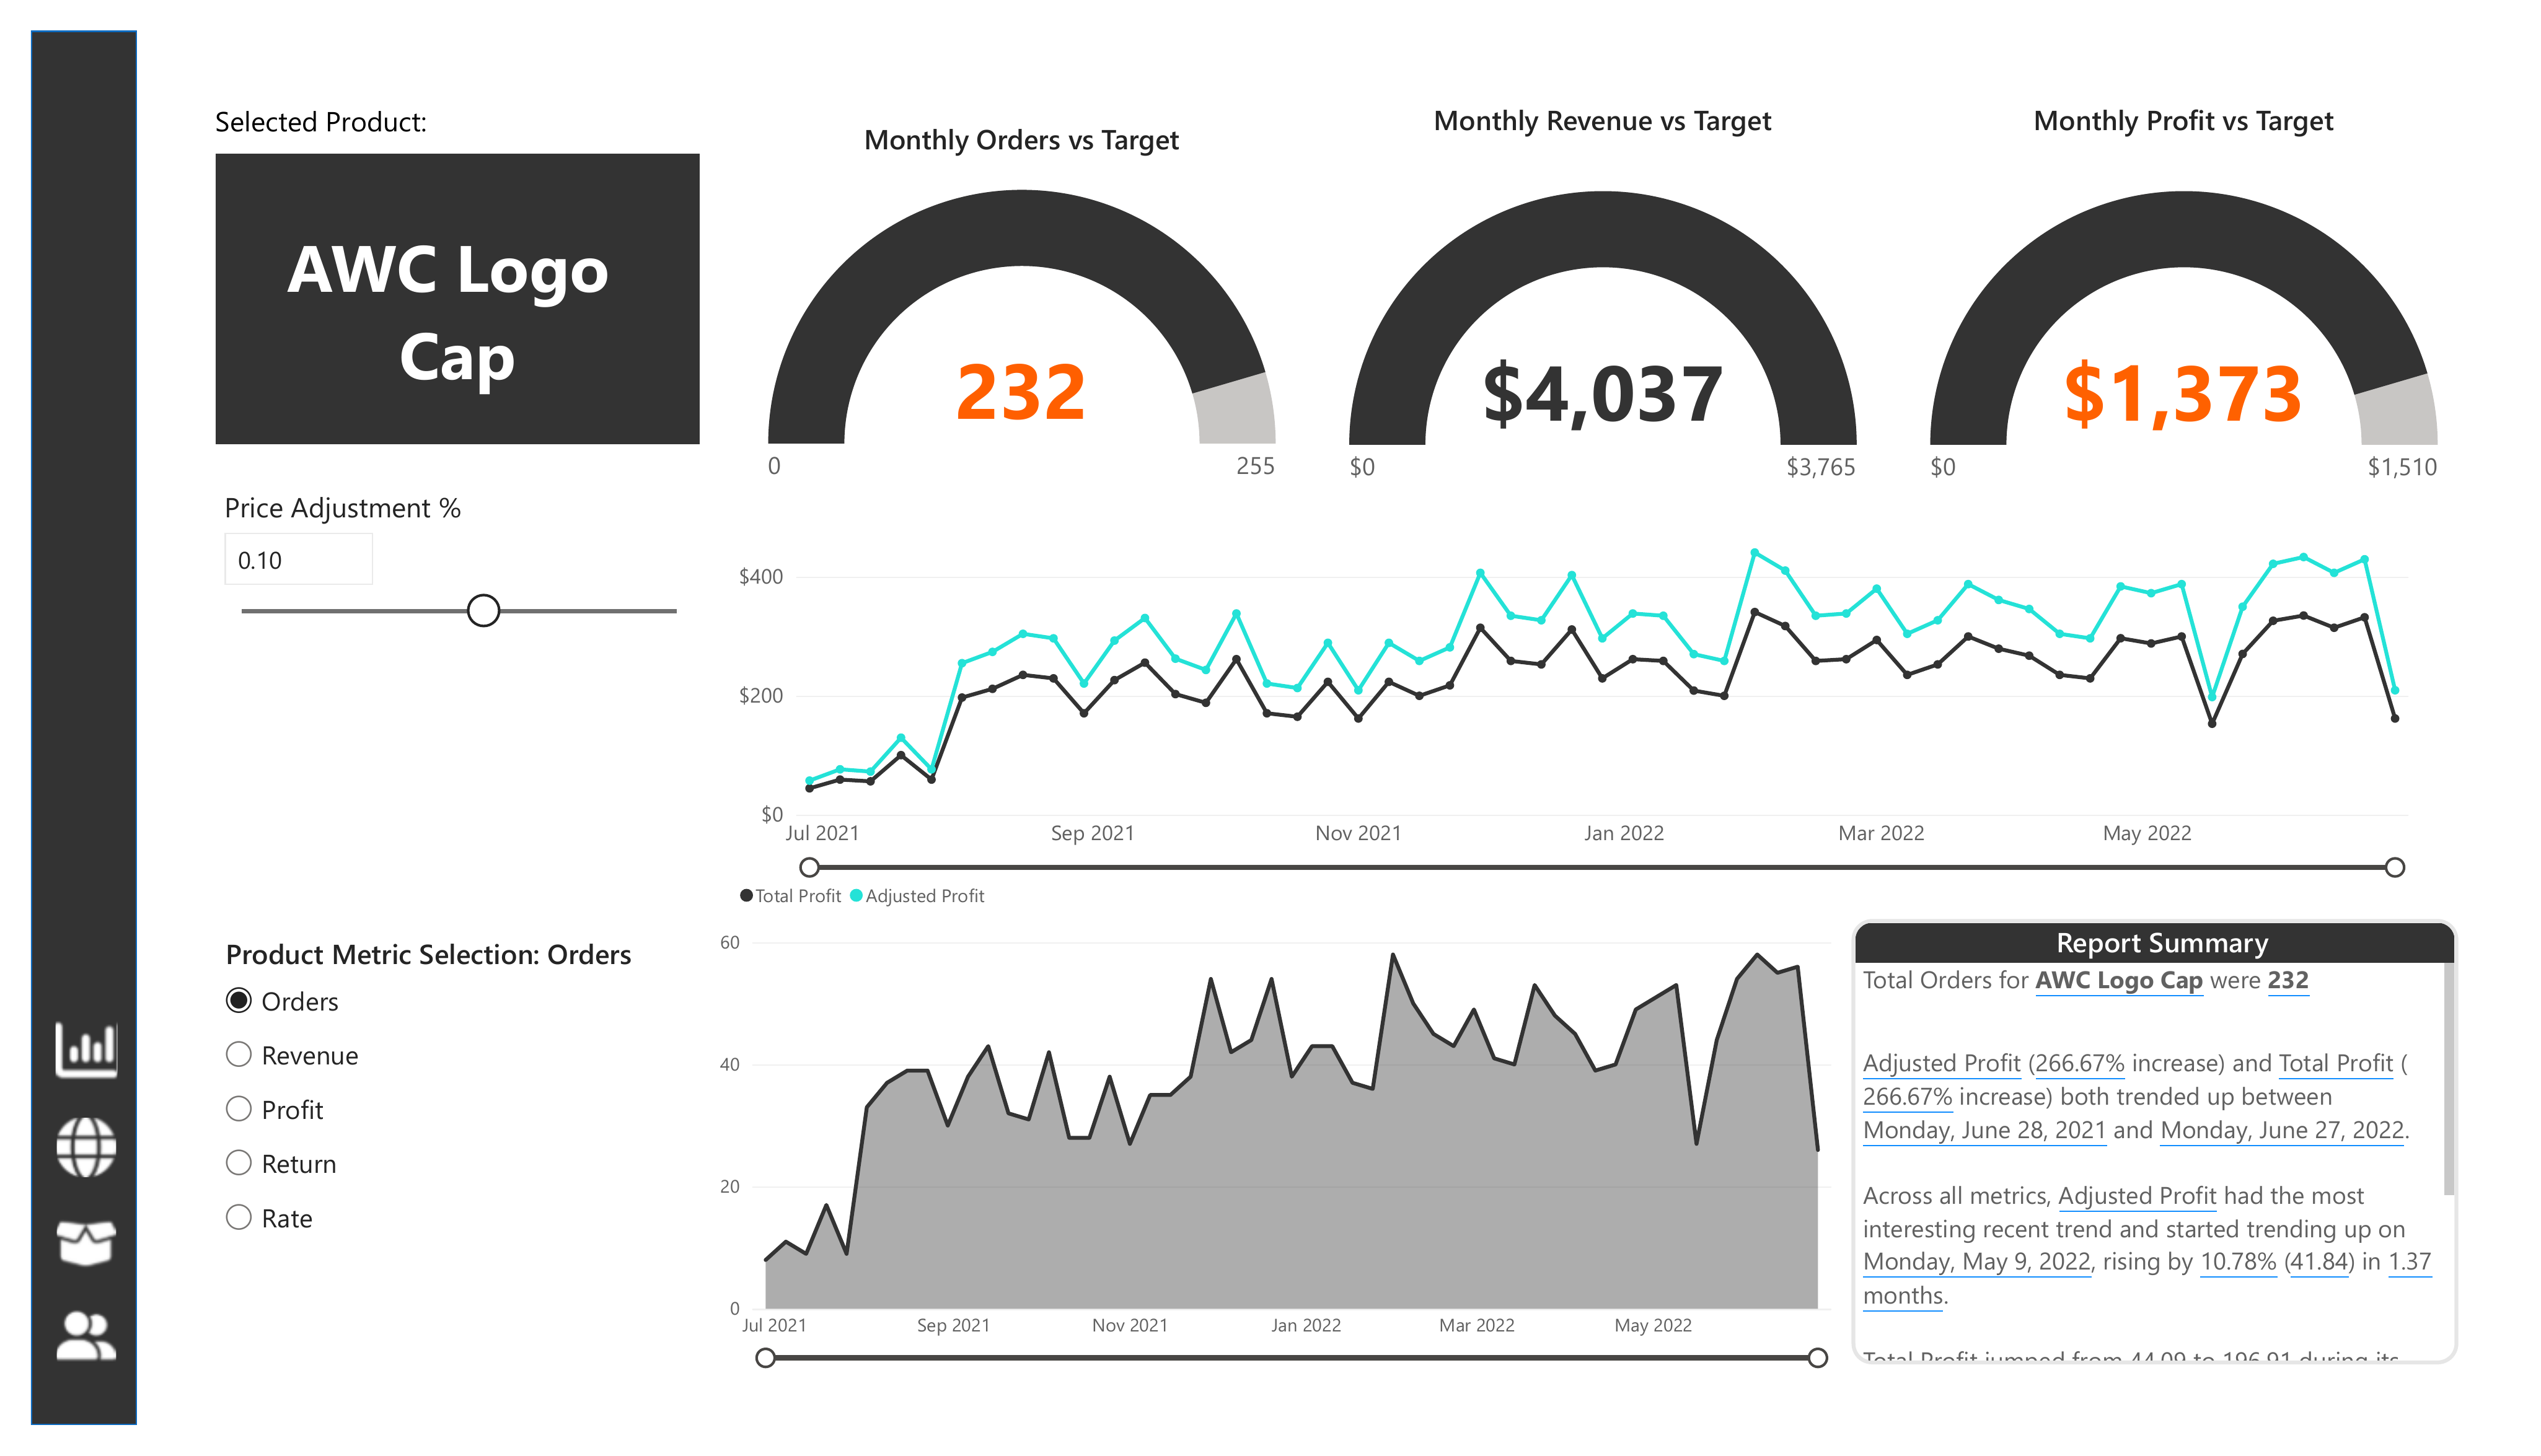

Layout of this report page (visuals, bound fields, positions):
{"tool":"powerbi","page":{"name":"Prouduct Detail","canvas":[1920,1080],"ordinal":2},"visuals":[{"type":"shape","box":[0,0,81.8,1079.5],"z":0},{"type":"actionButton","box":[2,752.2,81.1,75],"z":0,"group":"g1"},{"type":"gauge","title":"Monthly Orders vs Target","fields":{"MaxValue":["Measure Table.Order Target"],"Y":["Measure Table.Total Orders"]},"box":[555,55,425,337.5],"z":1000},{"type":"actionButton","box":[2,827.2,81.1,75],"z":1000,"group":"g1"},{"type":"gauge","title":"Monthly Revenue vs Target","fields":{"MaxValue":["Measure Table.Target Revenue"],"Y":["Measure Table.Total Revenue"]},"box":[1005,40,425,370],"z":2000},{"type":"actionButton","box":[2,902.2,81.1,75],"z":2000,"group":"g1"},{"type":"gauge","title":"Monthly Profit vs Target","fields":{"MaxValue":["Measure Table.Profit Target"],"Y":["Measure Table.Total Profit"]},"box":[1455,40,425,370],"z":3000},{"type":"actionButton","box":[2,973.2,81.1,75],"z":3000,"group":"g1"},{"type":"lineChart","title":"Profit","fields":{"Category":["Calendar Lookup.Year","Calendar Lookup.Start of Month","Calendar Lookup.Start of Week","Calendar Lookup.Date"],"Y":["Measure Table.Total Profit","Measure Table.Adjusted Profit"]},"box":[532,354,1350,346],"z":4000},{"type":"areaChart","fields":{"Category":["Calendar Lookup.Year","Calendar Lookup.Start of Month","Calendar Lookup.Start of Week","Calendar Lookup.Date"],"Y":["Measure Table.Total Orders"]},"box":[517.3,680.8,913.5,369.2],"z":5000},{"type":"card","fields":{"Values":["Min(Product Lookup.ProductName)"]},"box":[142.5,95,375,225],"z":6000},{"type":"textbox","box":[142.5,55,257.5,37.5],"z":7000},{"type":"group","id":"g1","title":"Navigation Buttons","box":[2,752.2,81.1,296],"z":8000},{"type":"slicer","fields":{"Values":["Price Adjustment.Price Adjustment"]},"box":[142,354,376,158],"z":9000},{"type":"slicer","fields":{"Values":["Metric Selection.Metric Selection"]},"box":[142.6,700,374.5,346.8],"z":10000},{"type":"textbox","title":"Report Summary","box":[1410,687.5,470,345],"z":11000}]}

Visuals, with their boxes on the page's 1920x1080 design canvas (x1, y1, x2, y2). These are canvas units, not pixel positions in the 2541x1456 screenshot, which may show the page scaled, cropped or inside an application window:
shape: 0,0,82,1080
actionButton: 2,752,83,827
"Monthly Orders vs Target" gauge: 555,55,980,392
actionButton: 2,827,83,902
"Monthly Revenue vs Target" gauge: 1005,40,1430,410
actionButton: 2,902,83,977
"Monthly Profit vs Target" gauge: 1455,40,1880,410
actionButton: 2,973,83,1048
"Profit" lineChart: 532,354,1882,700
areaChart - Calendar Lookup.Year x Calendar Lookup.Start of Month: 517,681,1431,1050
card - Min(Product Lookup.ProductName): 142,95,518,320
textbox: 142,55,400,92
"Navigation Buttons" group: 2,752,83,1048
slicer - Price Adjustment.Price Adjustment: 142,354,518,512
slicer - Metric Selection.Metric Selection: 143,700,517,1047
"Report Summary" textbox: 1410,688,1880,1032
